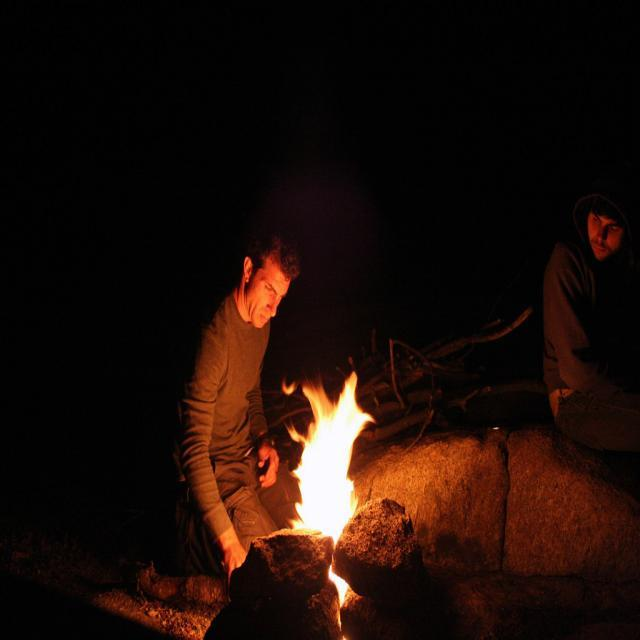Fire: (305, 428, 347, 525)
